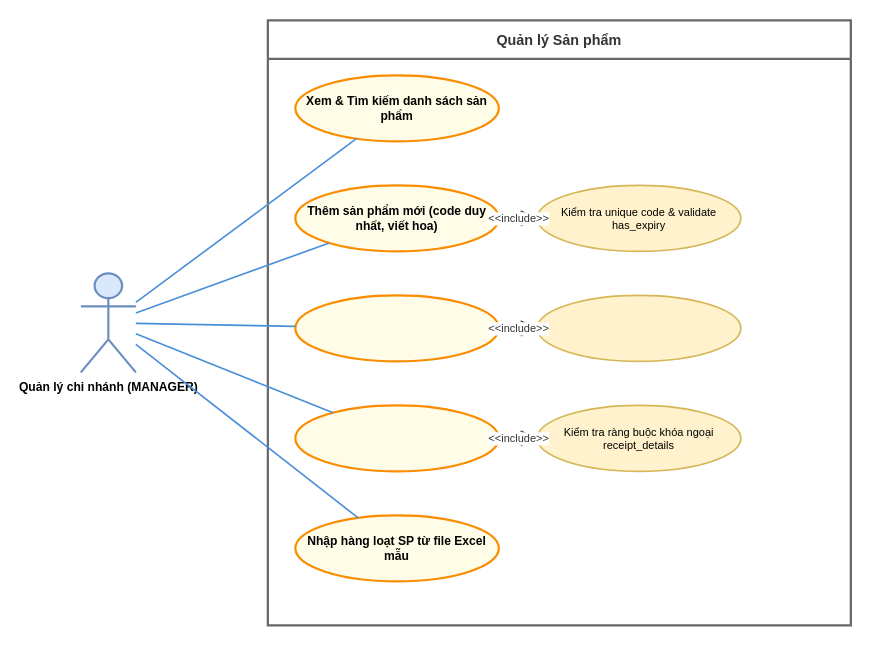
Image size: 871x645. Some labels were removed from this diagram. The centre of each missing label's shape, as x and y in pixels:
Cập nhật thông tin sản phẩm: [396,328]
Không đổi has_expiry nếu đã có tồn kho/GD: [638,328]
Xóa sản phẩm (nếu chưa có GD): [396,438]
